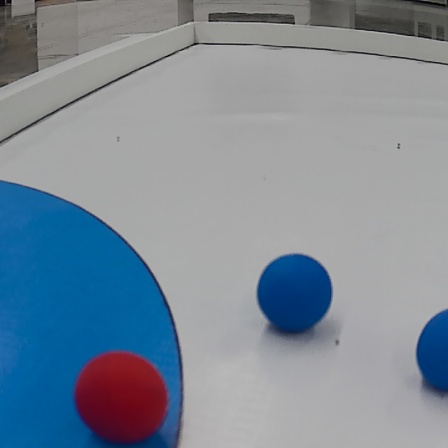blue: (258, 250, 334, 333), (415, 307, 448, 391)
blue_base: (0, 172, 181, 445)
red: (77, 351, 173, 441)
